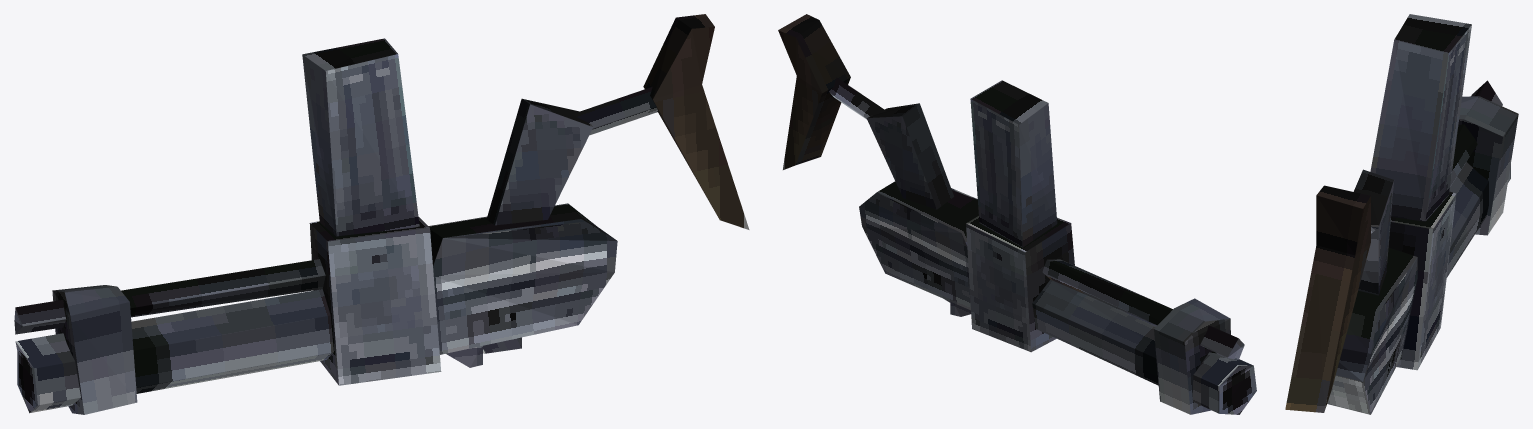
The model's file is XRIFLE.obj.
The picture shows the model from 3 angles, left to right: view 1: azimuth 30°, elevation 25°; view 2: azimuth 150°, elevation 25°; view 3: azimuth 270°, elevation 25°; orthographic projection. The views are drawn at different scales.
Visible parts, largest first — view 1: Node 0; view 2: Node 0; view 3: Node 0.
Boxes of the visible parts, x1,y1,x2,y2 form: Node 0: (14, 14, 749, 414); Node 0: (778, 14, 1256, 414); Node 0: (1285, 14, 1518, 414).
Bounding box in the file's own units: 0.99 × 0.46 × 0.3.
Materials: 2 (2 with a texture image).
